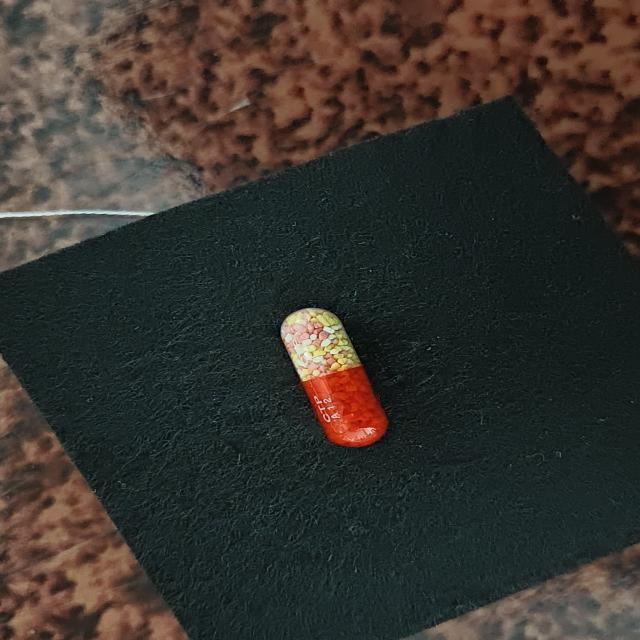Intact Capsule: (281, 308, 388, 447)
